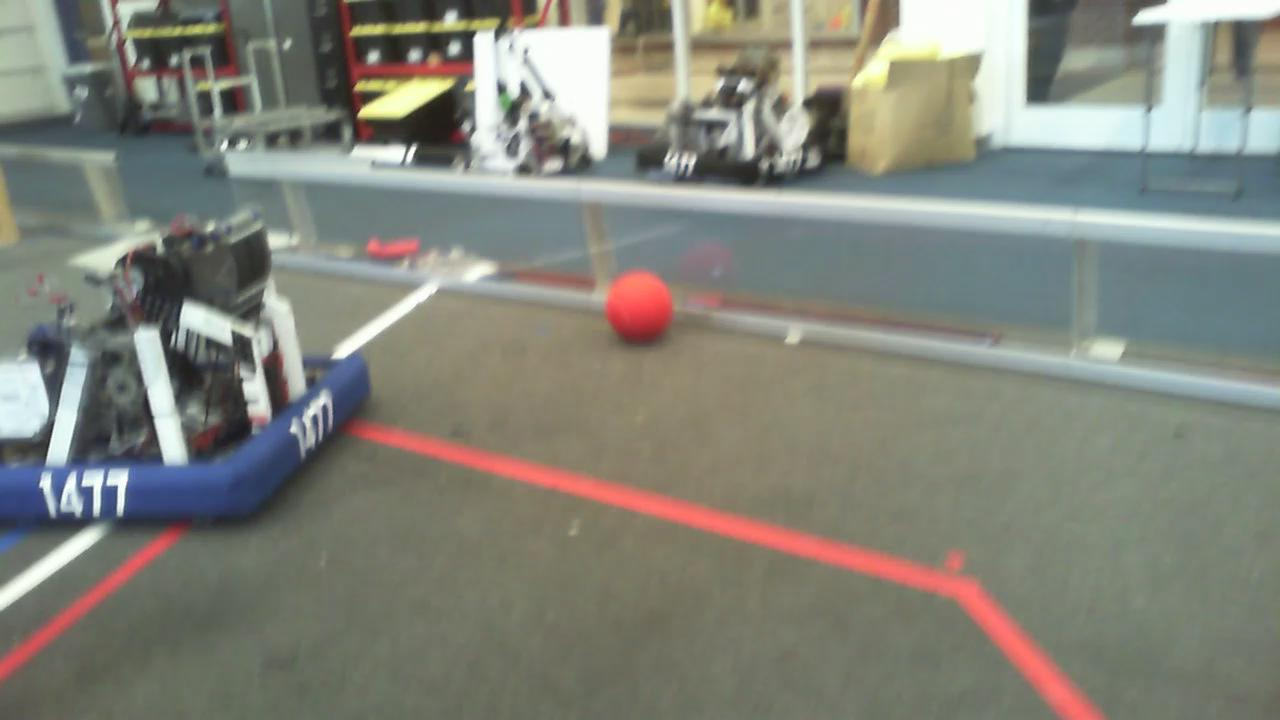robot: (0, 209, 370, 527)
